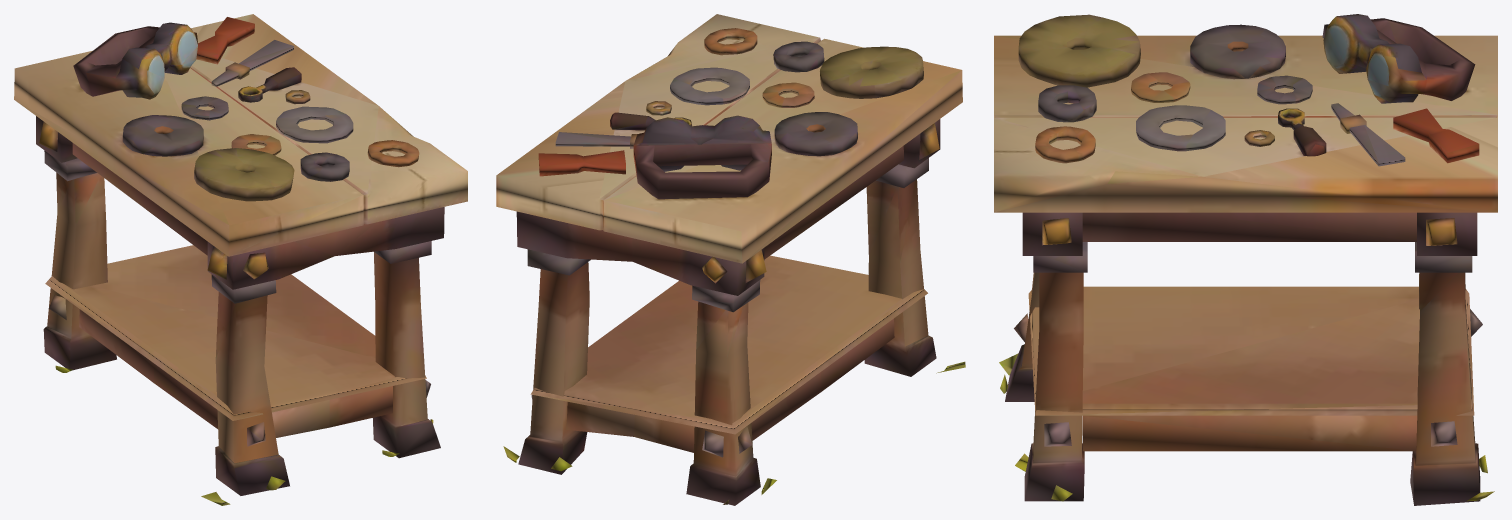
Rendered from toolbox.glb.
The picture shows the model from 3 angles, left to right: view 1: azimuth 30°, elevation 25°; view 2: azimuth 150°, elevation 25°; view 3: azimuth 270°, elevation 25°; orthographic projection. The views are drawn at different scales.
Visible parts, largest first — view 1: tripo_node_624fcf7f-452d-4077-8ab5-61b120c3b2af; view 2: tripo_node_624fcf7f-452d-4077-8ab5-61b120c3b2af; view 3: tripo_node_624fcf7f-452d-4077-8ab5-61b120c3b2af.
Part boxes in pixels (x1,y1,x2,y2): tripo_node_624fcf7f-452d-4077-8ab5-61b120c3b2af: (14, 14, 467, 505); tripo_node_624fcf7f-452d-4077-8ab5-61b120c3b2af: (496, 14, 965, 505); tripo_node_624fcf7f-452d-4077-8ab5-61b120c3b2af: (994, 14, 1497, 505).
Bounding box in the file's own units: 0.7959 × 1 × 1.16.
Materials: 1 (1 with a texture image).
